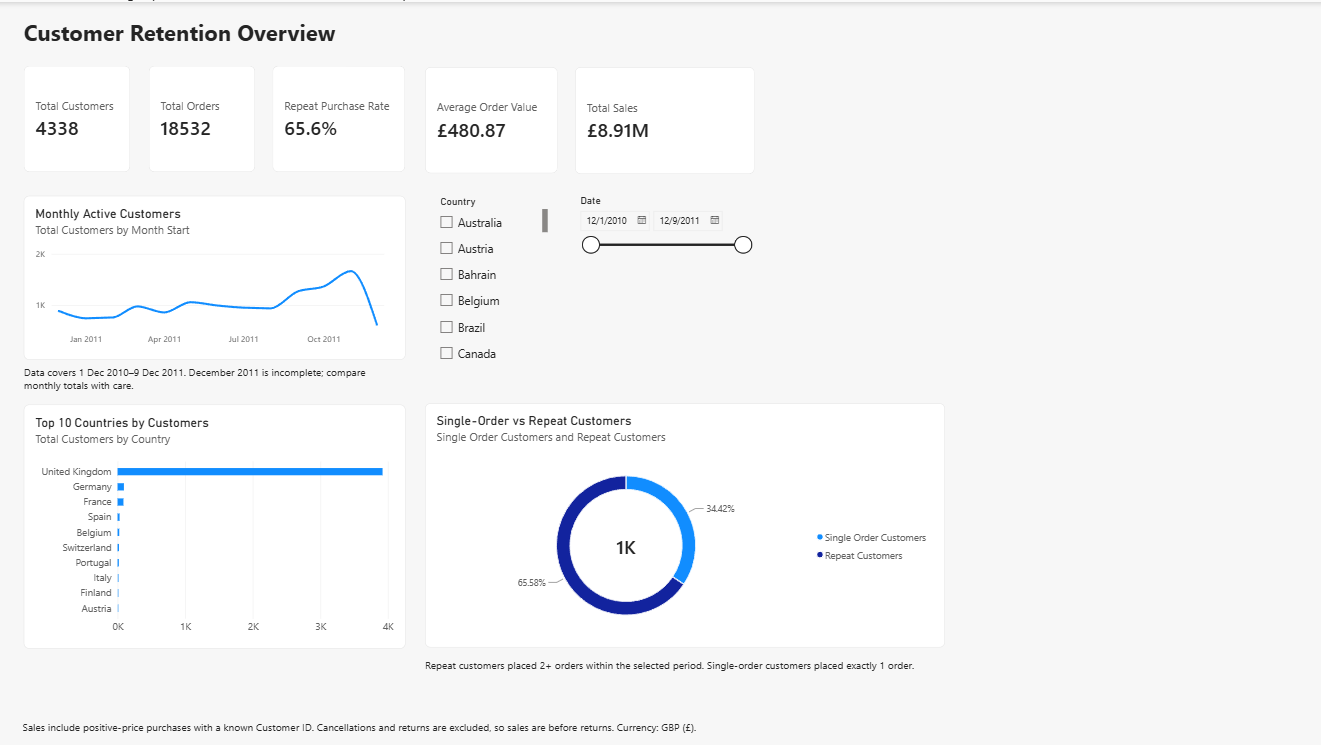

Layout of this report page (visuals, bound fields, positions):
{"tool":"powerbi","page":{"name":"Customer Overview","canvas":[1920,1080],"ordinal":0},"visuals":[{"type":"cardVisual","fields":{"Data":["Purchases.Total Customers"]},"box":[34,92,154,154],"z":0},{"type":"cardVisual","fields":{"Data":["Purchases.Total Orders"]},"box":[216,92,154,154],"z":1},{"type":"cardVisual","fields":{"Data":["Purchases.Repeat Purchase Rate"]},"box":[394,92,192,154],"z":2},{"type":"cardVisual","fields":{"Data":["Purchases.Average Order Value"]},"box":[616,94,192,154],"z":3},{"type":"cardVisual","fields":{"Data":["Purchases.Total Sales"]},"box":[833.3,93.3,260,155],"z":4},{"type":"textbox","box":[35,22.5,456,54],"z":5},{"type":"lineChart","title":"Monthly Active Customers","fields":{"Category":["Date Table.Month Start"],"Y":["Purchases.Total Customers"]},"box":[35,280,552.5,237.5],"z":6},{"type":"slicer","fields":{"Values":["Purchases.Country"]},"box":[630,280,163.3,238.3],"z":7},{"type":"slicer","fields":{"Values":["Date Table.Date"]},"box":[833.3,278.3,260,238.3],"z":8},{"type":"clusteredBarChart","title":"Top 10 Countries by Customers","fields":{"Category":["Purchases.Country"],"Y":["Purchases.Total Customers"]},"box":[34.4,582.7,552.5,353.8],"z":9},{"type":"donutChart","title":"Single-Order vs Repeat Customers","fields":{"Y":["Purchases.Single Order Customers","Purchases.Repeat Customers"]},"box":[615.3,580.9,752.5,353.8],"z":10},{"type":"textbox","box":[615.3,950.1,752.8,34.4],"z":11},{"type":"textbox","box":[34.4,524.8,551.9,43.4],"z":12}]}

Visuals, with their boxes in screenshot pixels (x1, y1, x2, y2), scaled from the page's 1920x1080 canvas onto the 1321x745 screenshot:
cardVisual - Purchases.Total Customers: (23, 63, 129, 170)
cardVisual - Purchases.Total Orders: (149, 63, 255, 170)
cardVisual - Purchases.Repeat Purchase Rate: (271, 63, 403, 170)
cardVisual - Purchases.Average Order Value: (424, 65, 556, 171)
cardVisual - Purchases.Total Sales: (573, 64, 752, 171)
textbox: (24, 16, 338, 53)
"Monthly Active Customers" lineChart: (24, 193, 404, 357)
slicer - Purchases.Country: (433, 193, 546, 358)
slicer - Date Table.Date: (573, 192, 752, 356)
"Top 10 Countries by Customers" clusteredBarChart: (24, 402, 404, 646)
"Single-Order vs Repeat Customers" donutChart: (423, 401, 941, 645)
textbox: (423, 655, 941, 679)
textbox: (24, 362, 403, 392)
